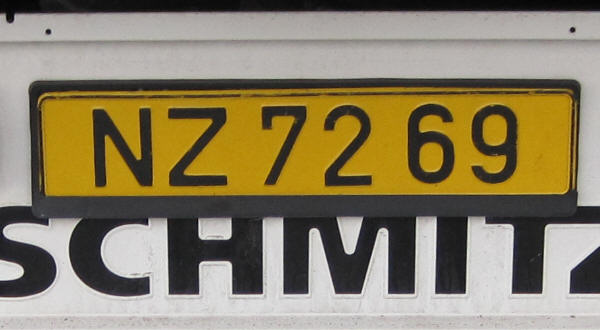license_plate: (37, 85, 577, 197)
